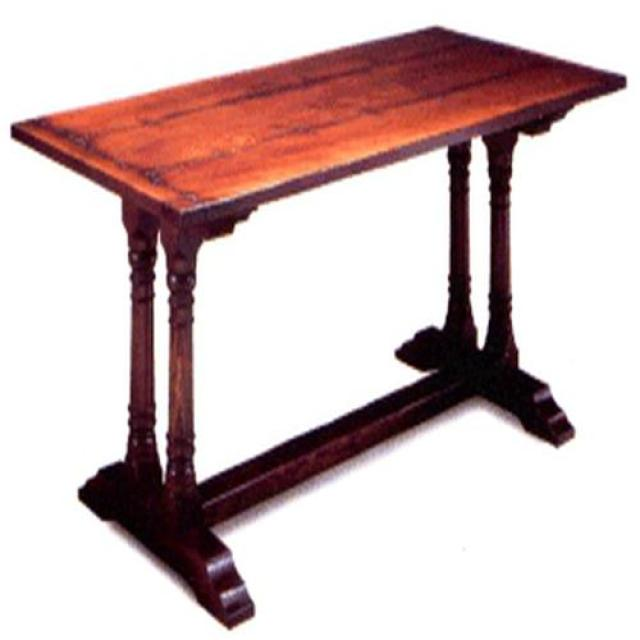table: (10, 27, 631, 631)
